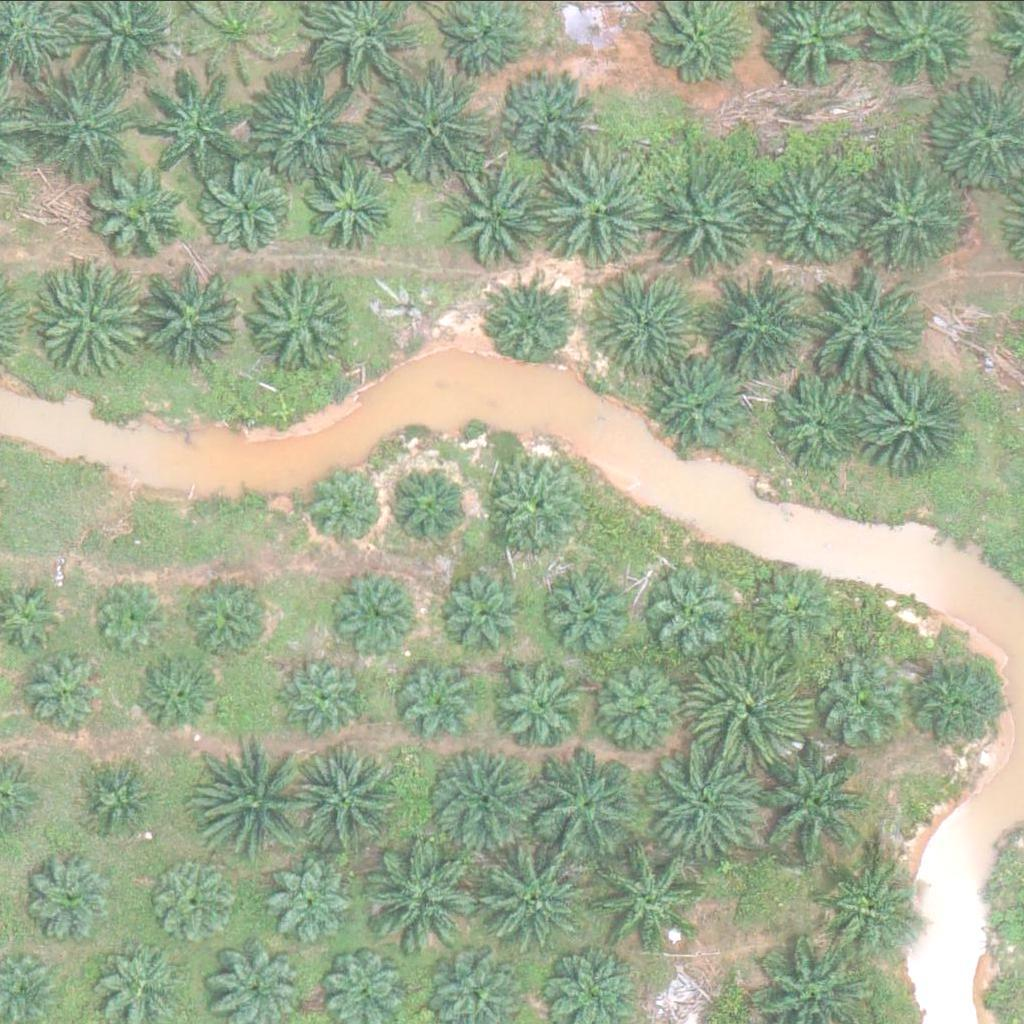Kelapa_Sawit: (748, 155, 862, 268), (376, 67, 490, 180), (653, 164, 767, 277), (589, 266, 703, 379), (426, 749, 540, 862), (860, 367, 973, 480), (250, 66, 363, 179), (31, 264, 144, 377), (690, 650, 803, 763), (203, 742, 316, 855), (524, 745, 637, 858), (697, 268, 811, 380), (140, 258, 254, 370), (651, 739, 765, 851), (851, 164, 964, 276), (808, 276, 921, 388), (753, 750, 866, 862), (137, 70, 250, 182), (22, 66, 135, 178), (430, 154, 543, 266), (544, 150, 657, 262), (296, 745, 409, 857), (590, 838, 703, 950), (481, 838, 594, 950), (369, 842, 482, 954), (770, 373, 871, 473), (497, 70, 598, 170), (197, 160, 298, 260), (293, 156, 394, 256), (249, 267, 350, 367), (482, 454, 583, 554), (543, 562, 644, 662), (650, 354, 751, 454), (905, 652, 1005, 752), (826, 855, 926, 955), (90, 163, 190, 263), (589, 652, 689, 752), (493, 648, 593, 748), (19, 647, 108, 735), (812, 660, 900, 748), (79, 761, 167, 849), (186, 577, 274, 665), (747, 563, 835, 651), (396, 654, 484, 742), (155, 855, 243, 943), (483, 279, 571, 366), (134, 649, 222, 736), (282, 656, 370, 743), (339, 567, 427, 654), (385, 460, 473, 547), (655, 566, 743, 653), (434, 571, 522, 658), (26, 854, 114, 941), (268, 857, 356, 944), (99, 578, 175, 653), (312, 469, 388, 544)
